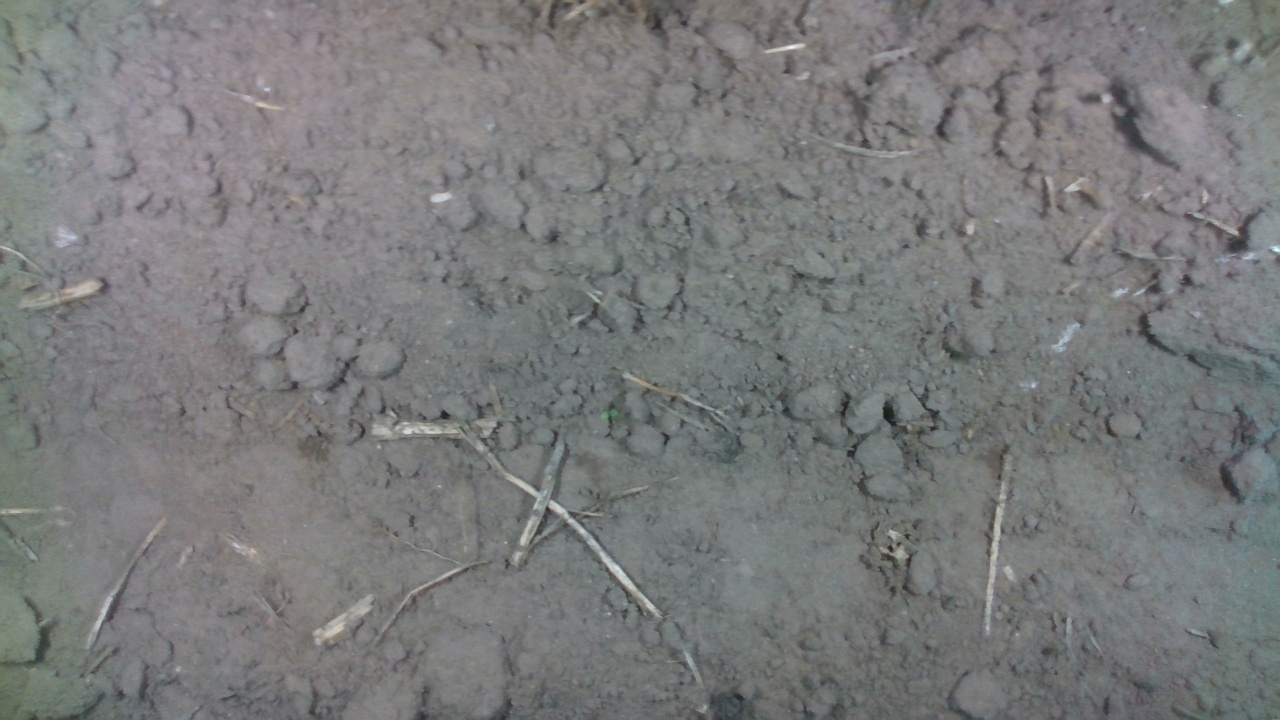weed: (597, 406, 620, 421)
